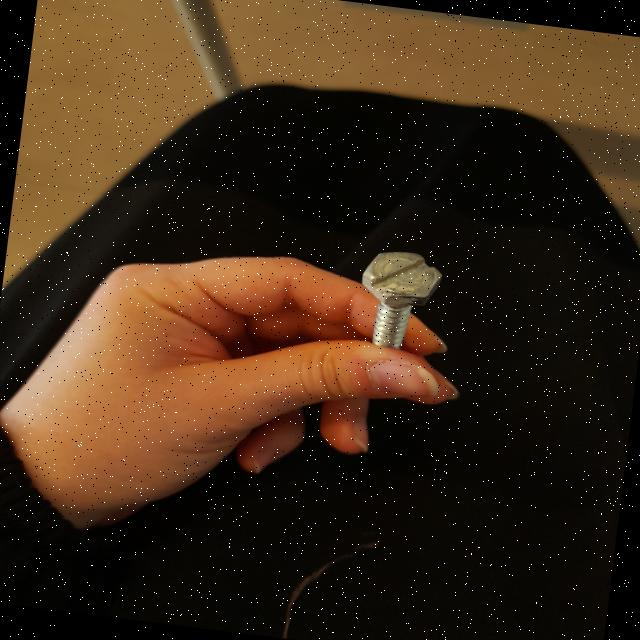Slotted: (359, 245, 446, 308)
